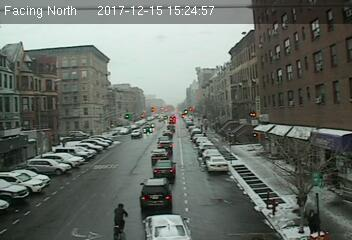bicycle: (109, 202, 131, 240)
car: (143, 213, 191, 240), (139, 179, 174, 213), (153, 159, 176, 178), (204, 156, 229, 172), (151, 148, 169, 159), (157, 140, 173, 151)
